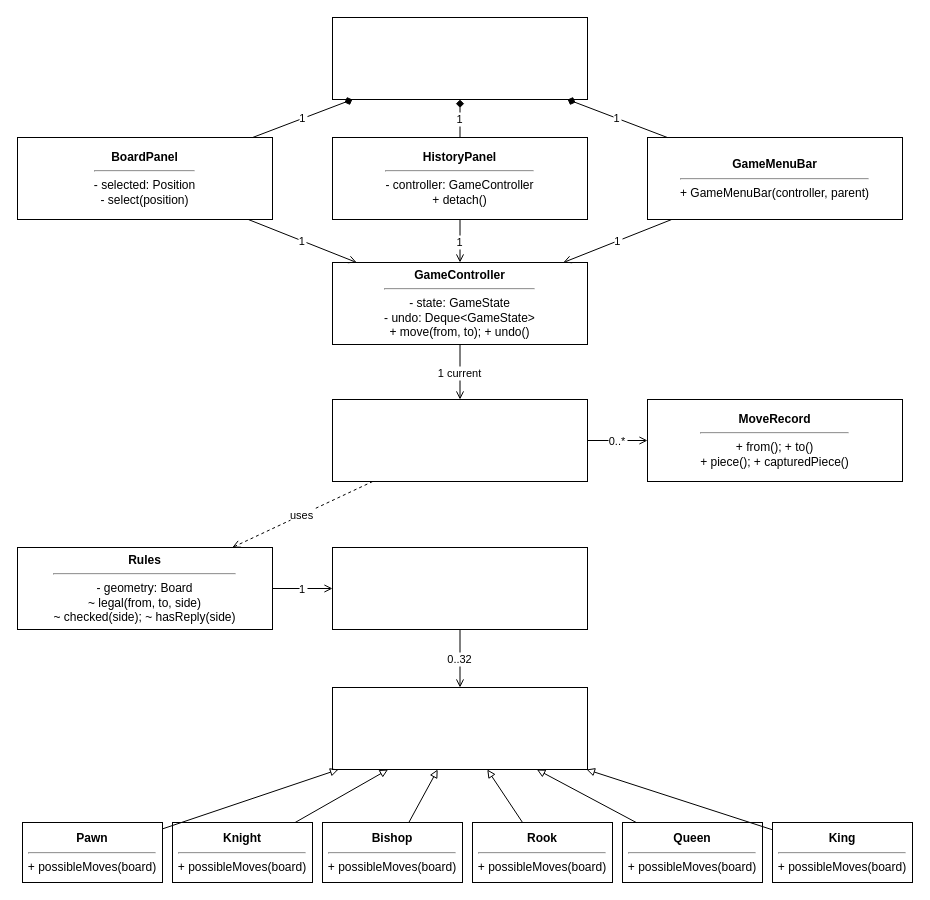
Some shapes in this 930 by 900 pixel diagram are drawn without their labels. Each missing label, with the centre of its shape:
board.Board - squares: Piece[][] + getPiece(position): [460,588]
ChessFrame - controller: GameController + dispose(): [460,58]
GameState - board: List<Piece> + move(from, to): GameState + inCheck(): boolean: [460,440]
pieces.Piece «abstract» - position: board.Position + possibleMoves(board): [460,728]
